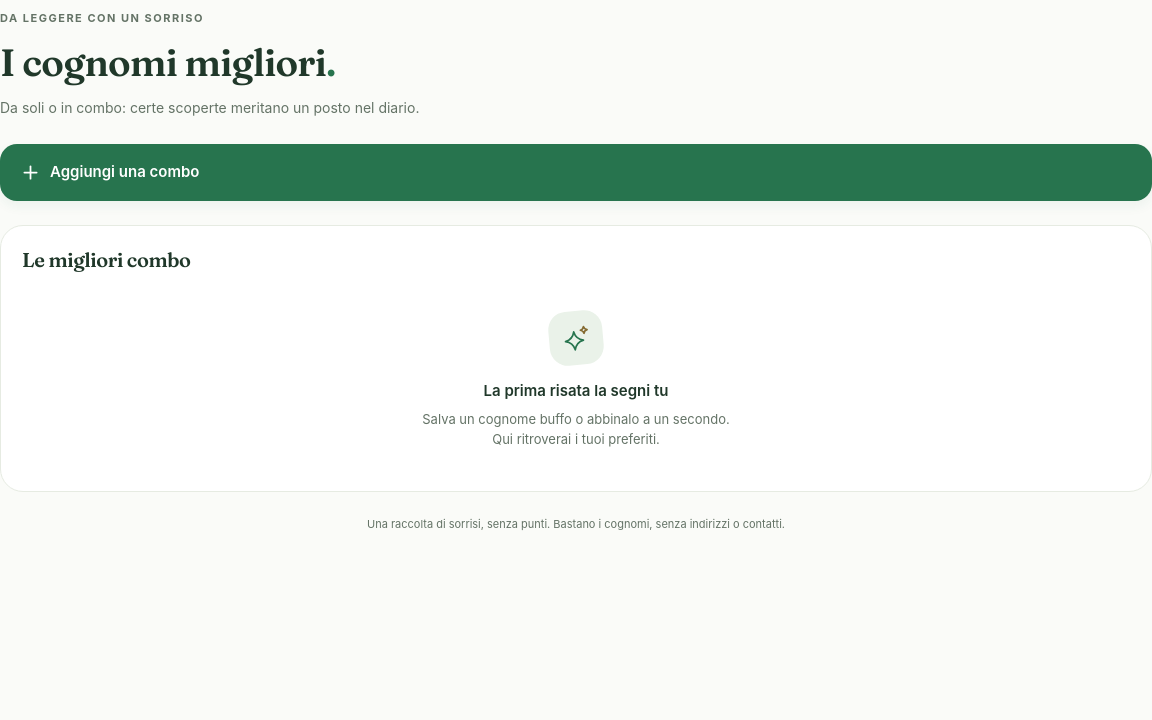
salva un solo cognome, rilegge dopo riapertura, aggiunge una coppia e conferma la rimozione
Later steps or results of the test are not shown.
Click the button "Aggiungi una combo". click: point(125, 171)
box: x1=0 y1=144 x2=1151 y2=201
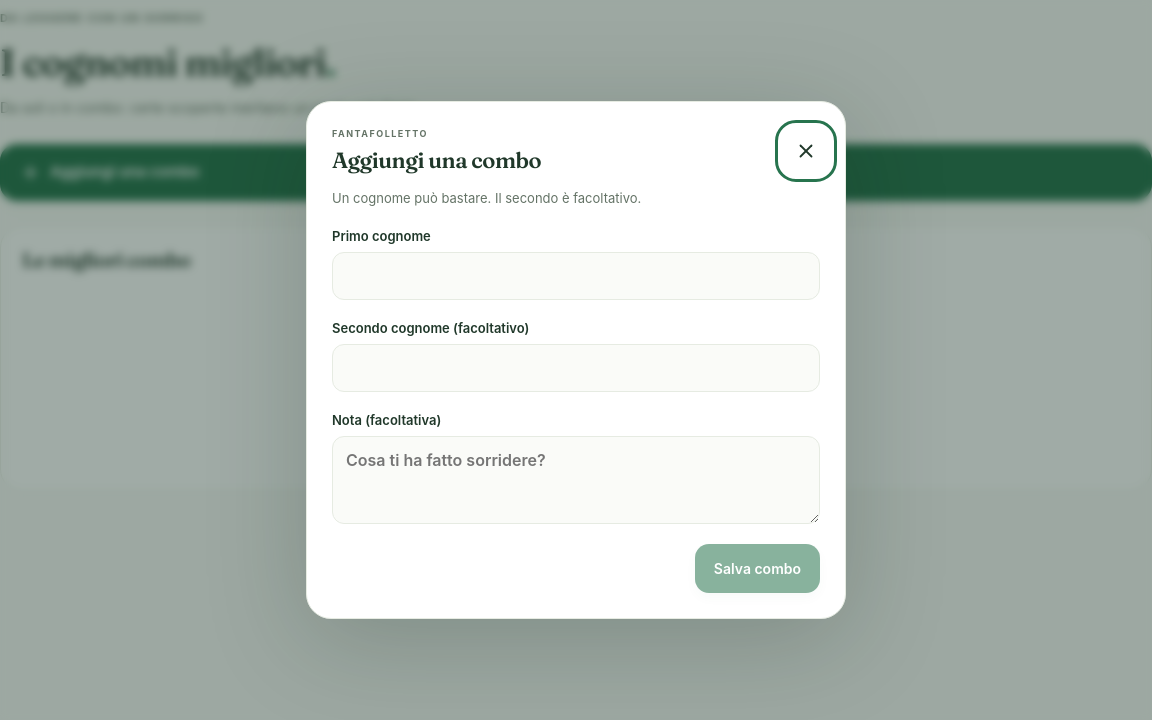
Type "Allegri" into the field labelled "Primo cognome". click: point(576, 276)
box: x1=332 y1=252 x2=820 y2=300
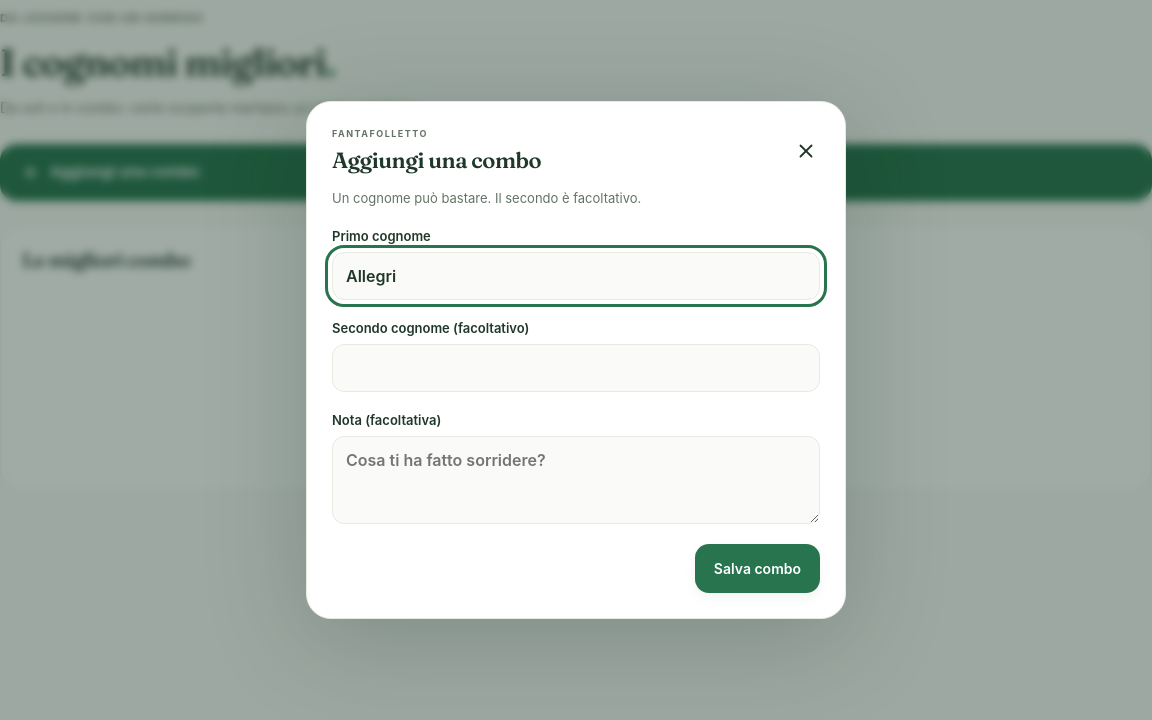
Click the button "Salva combo". click: point(757, 569)
box: x1=695 y1=544 x2=820 y2=593
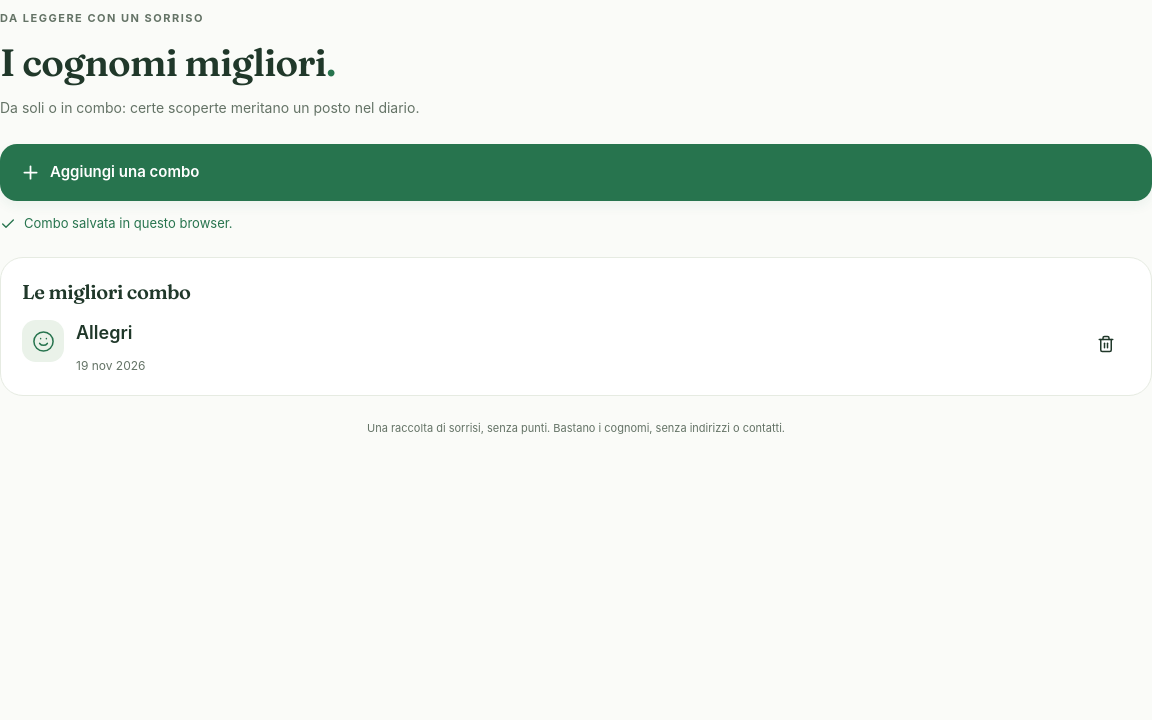
Expected: the heading "Allegri" is shown, x1=76 y1=322 x2=132 y2=343
Expected: the dialog is gone
